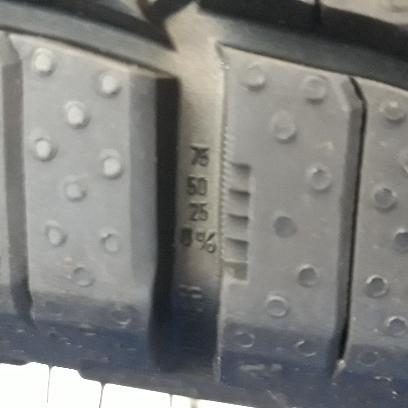temoin:100: (216, 133, 257, 288)
